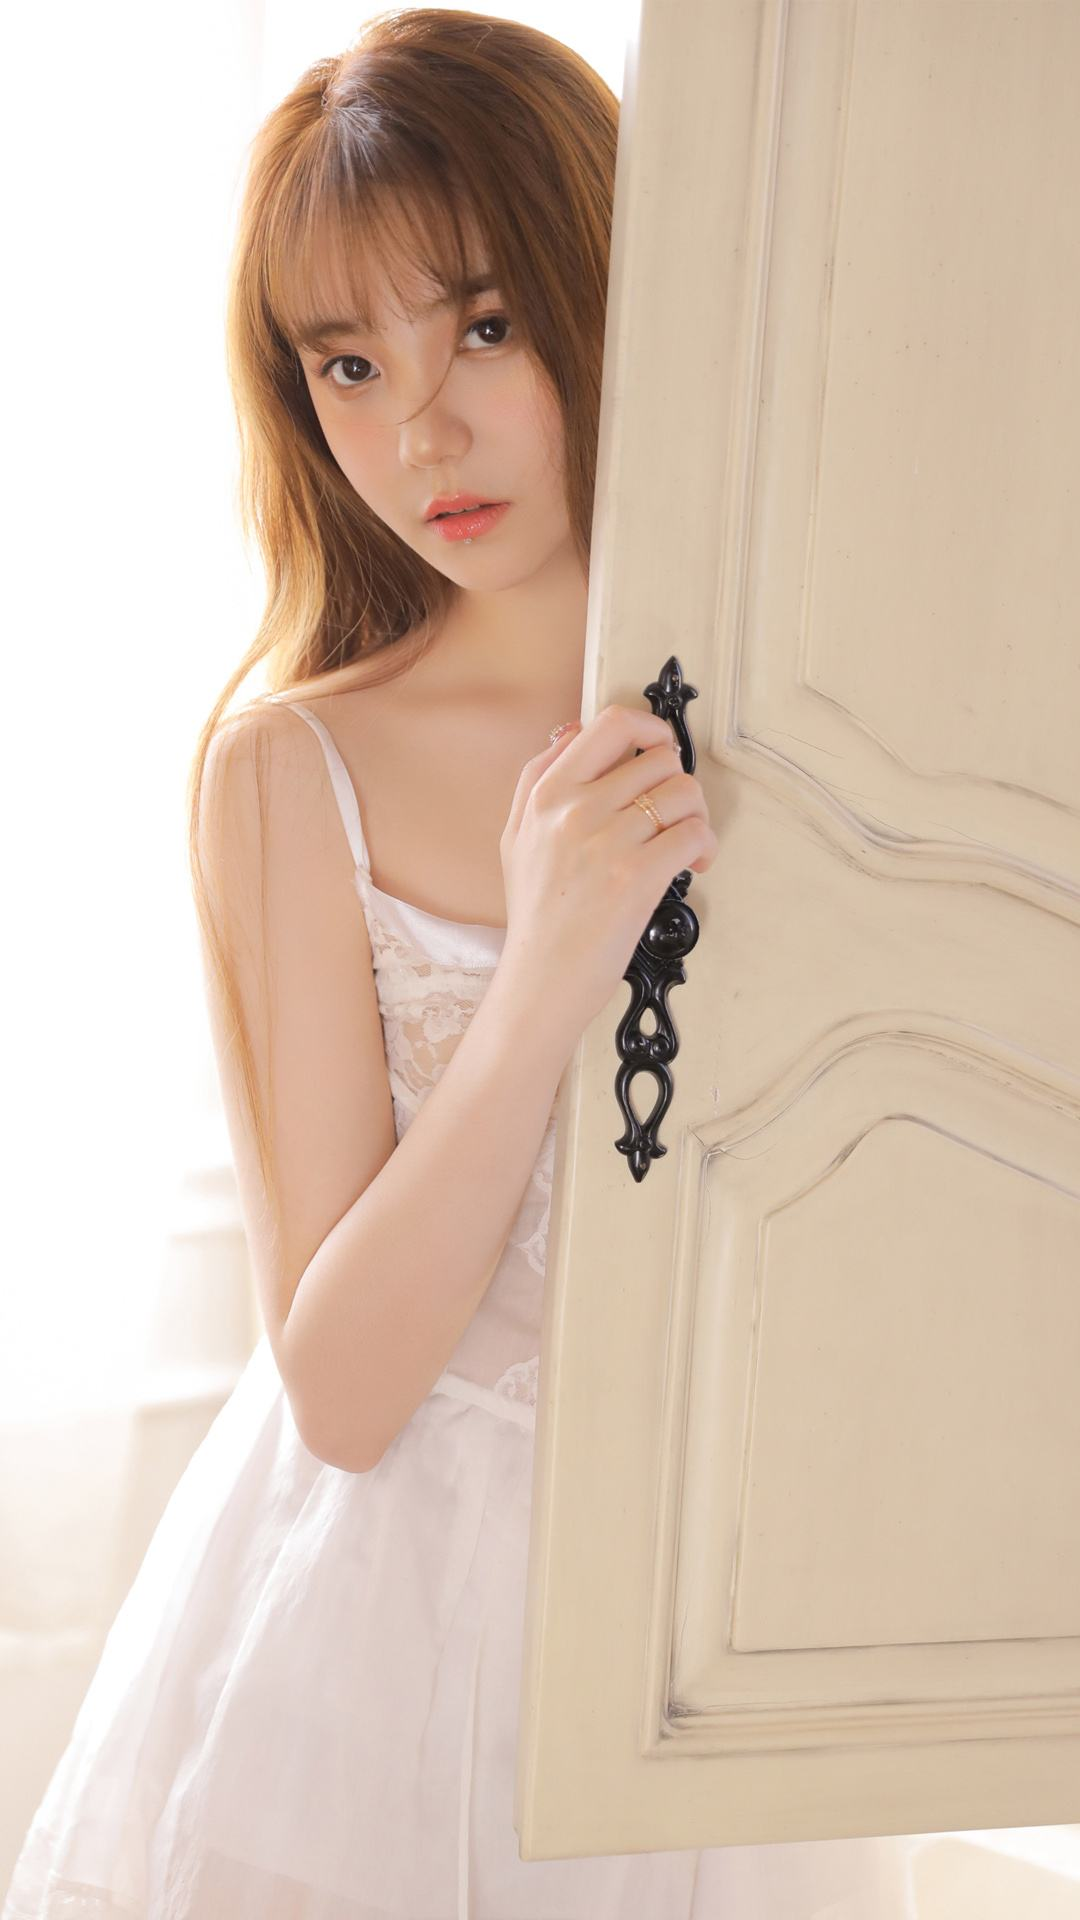person: (106, 53, 855, 1551)
